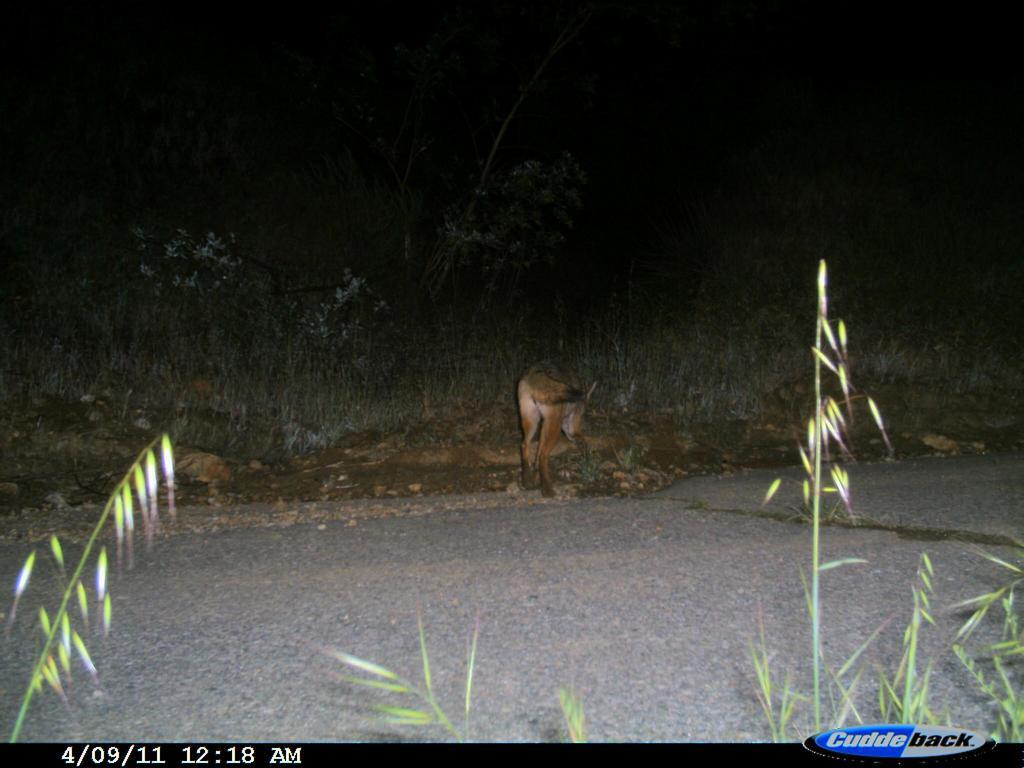coyote: (497, 332, 605, 528)
